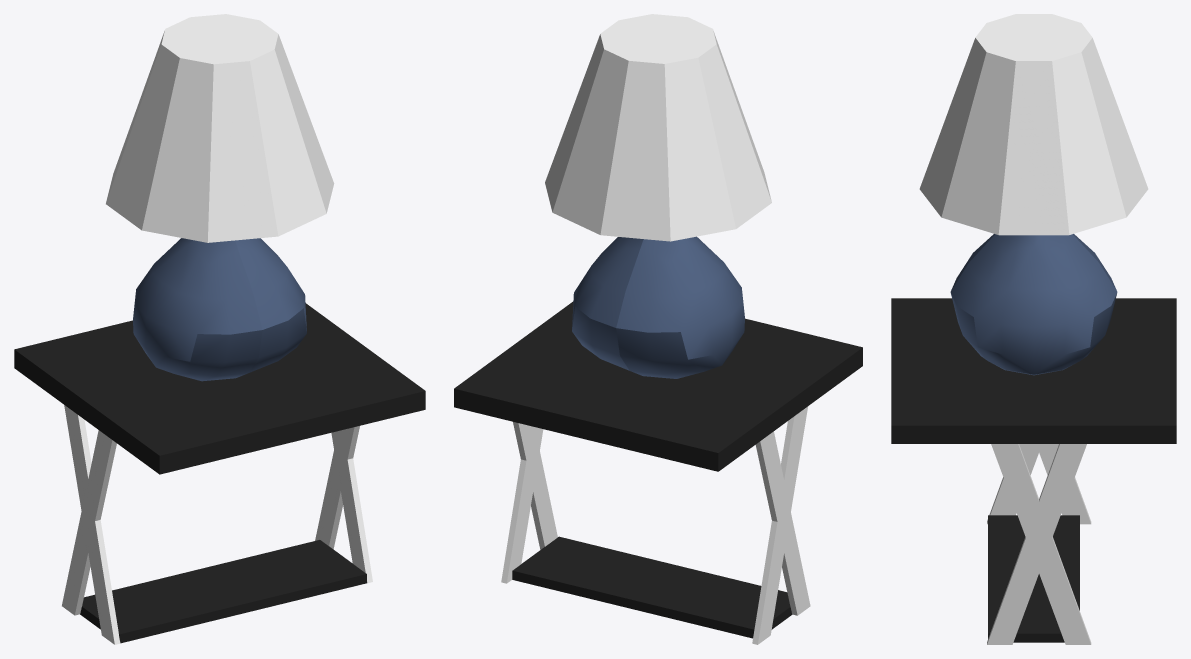
The model's file is Commodin3.fbx.
3 renders of one model, left to right at view 1: azimuth 30°, elevation 25°; view 2: azimuth 150°, elevation 25°; view 3: azimuth 270°, elevation 25°, orthographic. The views are drawn at different scales.
Parts seen in each view (by area): view 1: Lv3 Commodin; view 2: Lv3 Commodin; view 3: Lv3 Commodin.
Boxes of the visible parts, x1,y1,x2,y2 form: Lv3 Commodin: (14, 14, 425, 644); Lv3 Commodin: (454, 14, 862, 644); Lv3 Commodin: (891, 14, 1176, 644).
Size of the model in its own units: 57.15 by 114 by 54.11.
